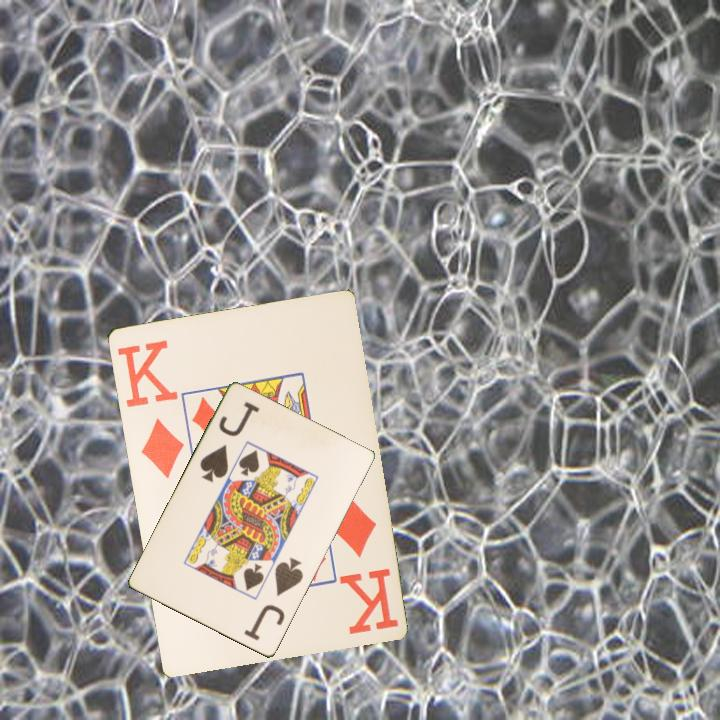Js: (240, 554, 306, 644), (196, 398, 263, 486)
Kd: (113, 336, 186, 481), (330, 494, 401, 637)
